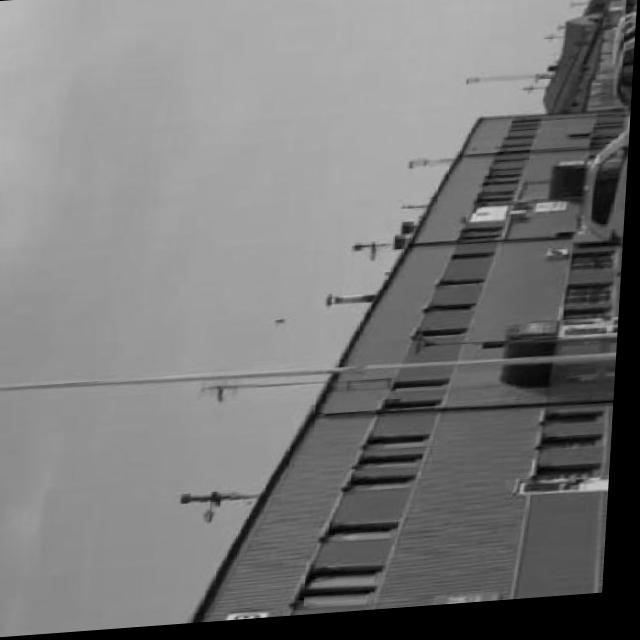helikopter: (271, 317, 296, 332)
